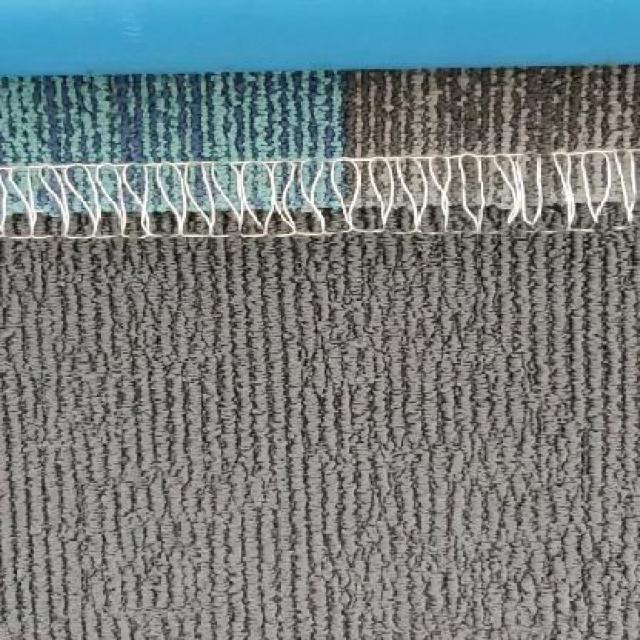gray stitch: (0, 147, 640, 245)
